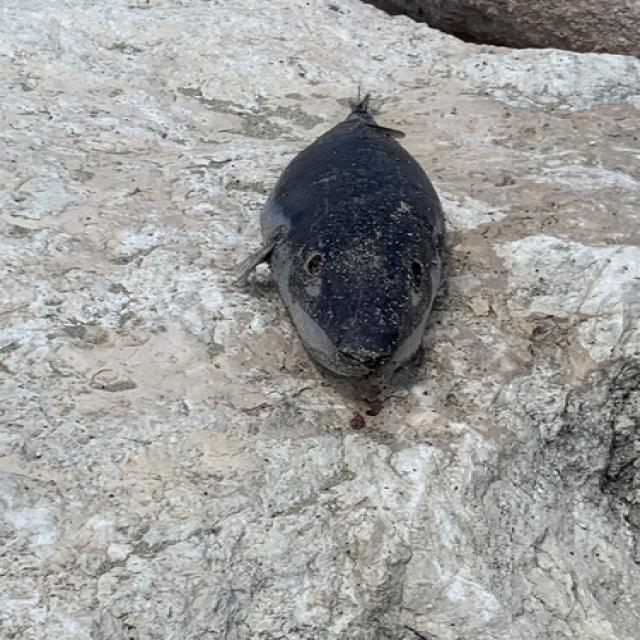Balik: (239, 95, 443, 377)
